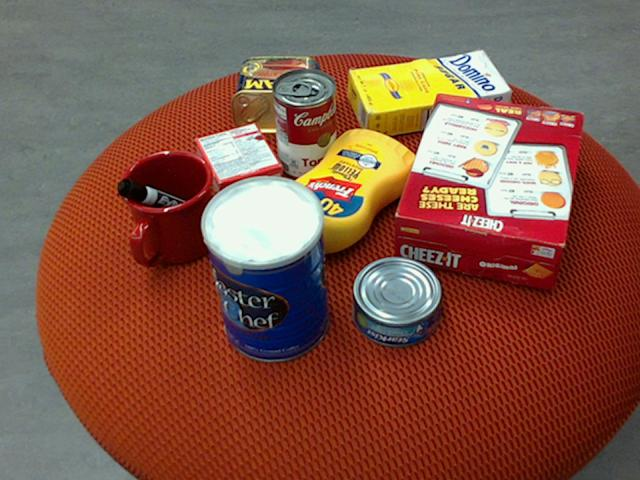cracker_box: (394, 92, 585, 287)
gelatin_box: (194, 121, 281, 202)
large_marker: (115, 178, 211, 226)
master_chef_can: (196, 177, 329, 363)
mug: (116, 150, 217, 266)
mustard_bottle: (270, 128, 418, 265)
potted_meat_can: (232, 56, 321, 132)
sugar_box: (347, 49, 513, 138)
tomato_soup_can: (272, 66, 336, 178)
tuna_fish_can: (353, 256, 443, 347)
